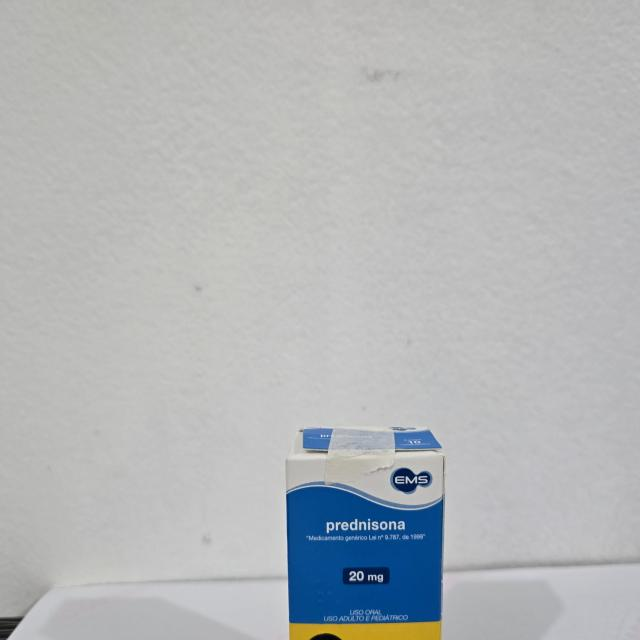prednisona: (282, 422, 449, 640)
